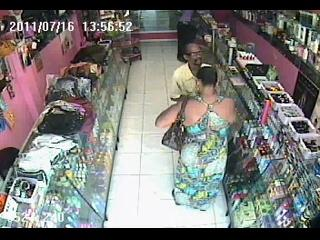Normal: (156, 66, 238, 211), (169, 40, 206, 103), (161, 98, 189, 152), (121, 46, 142, 65)
